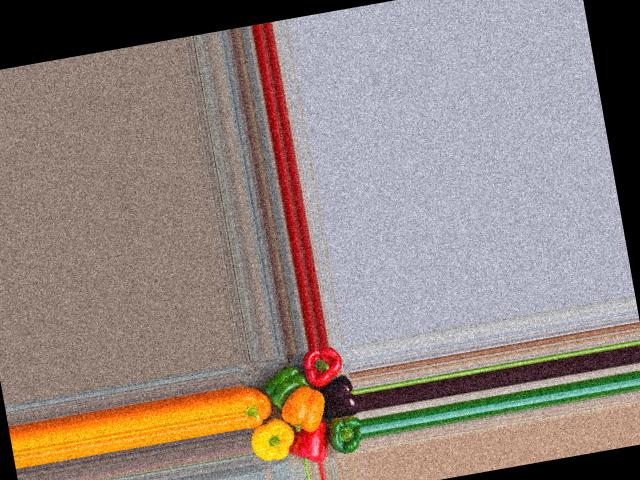bell_pepper: (238, 370, 283, 428)
